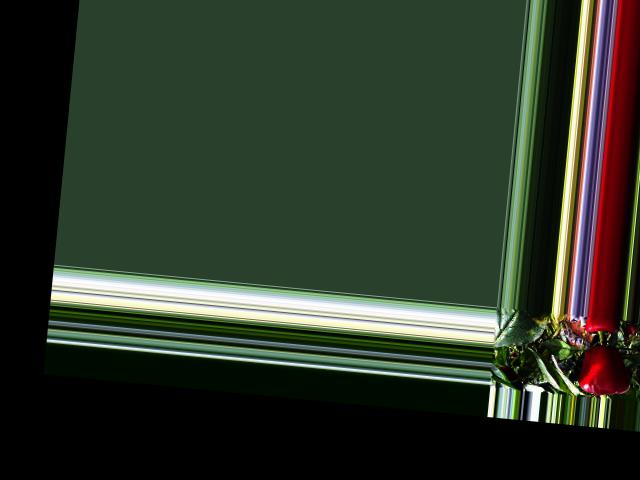bell_pepper: (580, 314, 622, 339)
